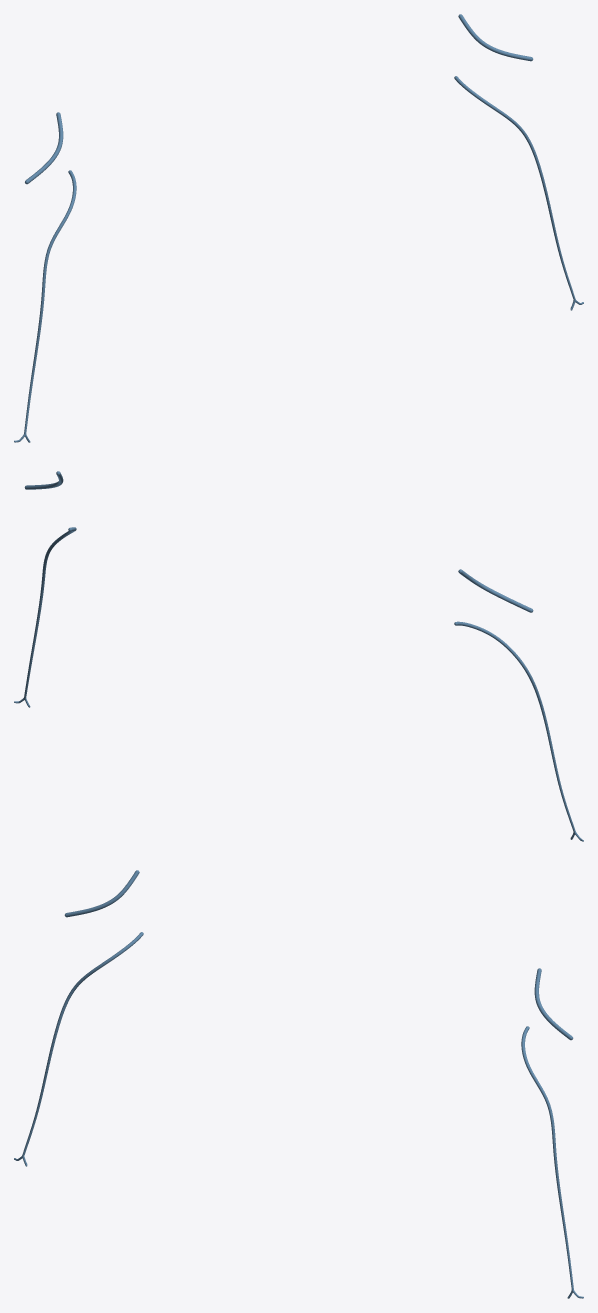
The model's file is cubital-veins.glb.
3 renders of one model, top to bottom at view 1: azimuth 30°, elevation 25°; view 2: azimuth 150°, elevation 25°; view 3: azimuth 330°, elevation 25°, orthographic.
Visible parts, largest first — view 1: FMA22968, FMA22969; view 2: FMA22968, FMA22969; view 3: FMA22969, FMA22968.
Part boxes in pixels (<box>): FMA22968: <box>14,170,76,442</box>; FMA22969: <box>454,76,583,310</box>; FMA22968: <box>454,621,583,841</box>; FMA22969: <box>14,527,76,707</box>; FMA22969: <box>521,1026,583,1298</box>; FMA22968: <box>14,932,143,1166</box>.
Bounding box in the file's own units: 5.25 × 2.49 × 0.6775.
